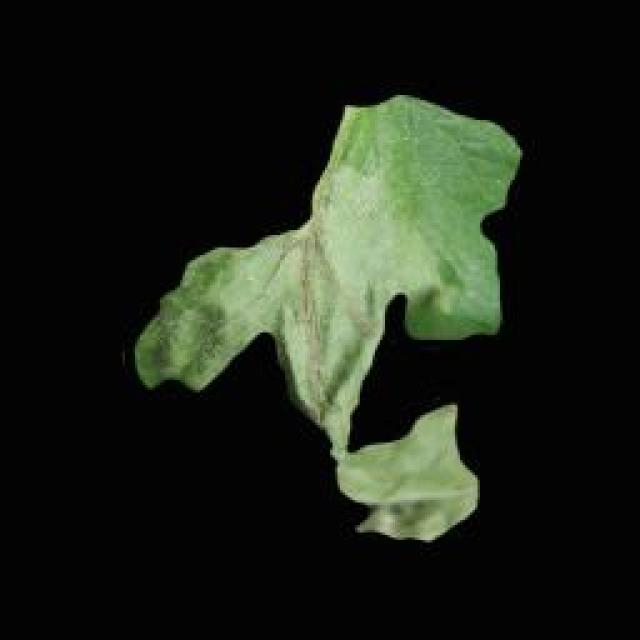Tomato___Late_blight: (132, 95, 522, 545)
